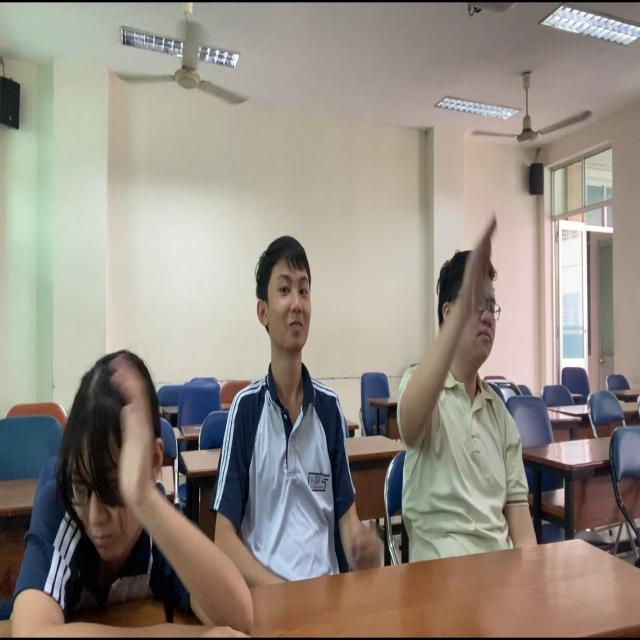raise_hand: (393, 210, 540, 570)
